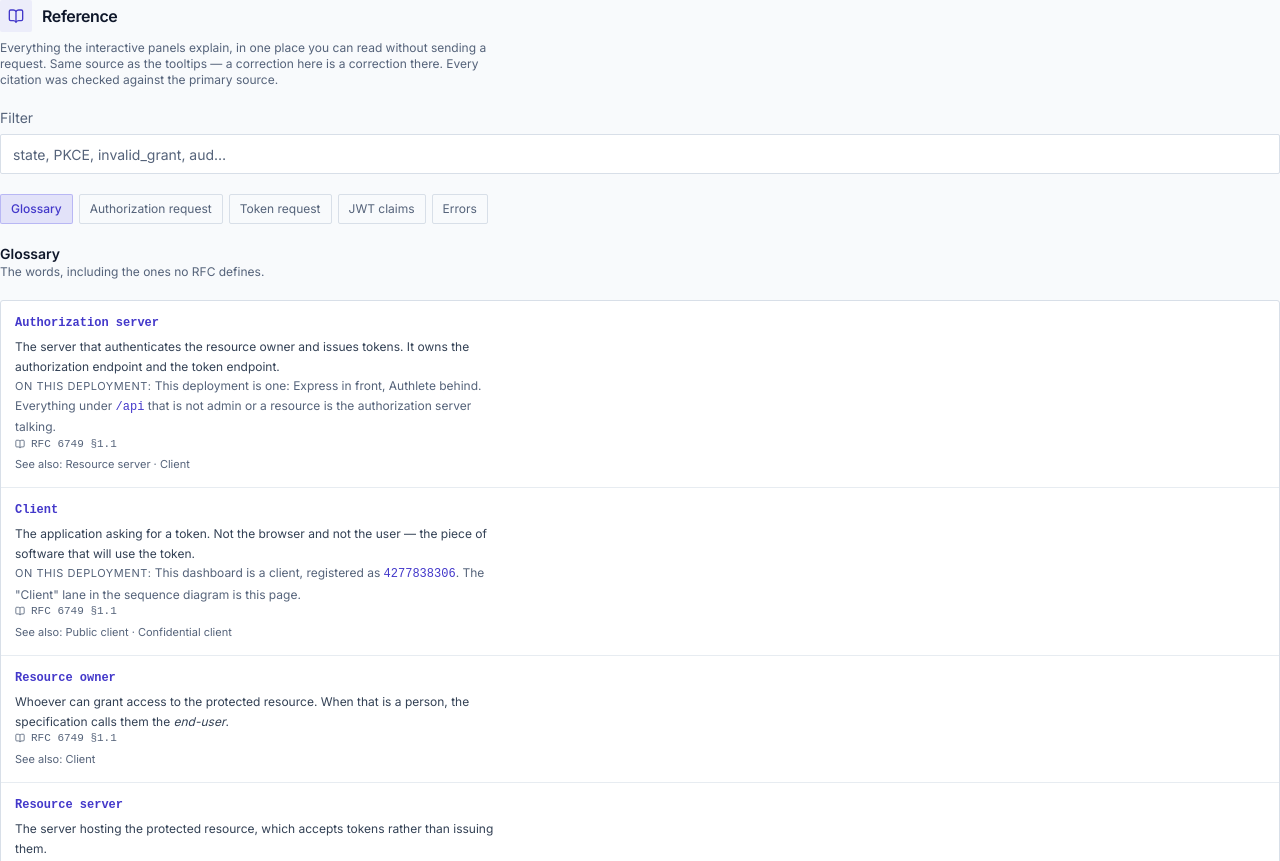
Scenario: ReferencePage › carries the attacker model into the reading surface too
Step 1. Click the button "Authorization request" → point(151, 209), box [79,194,223,224]
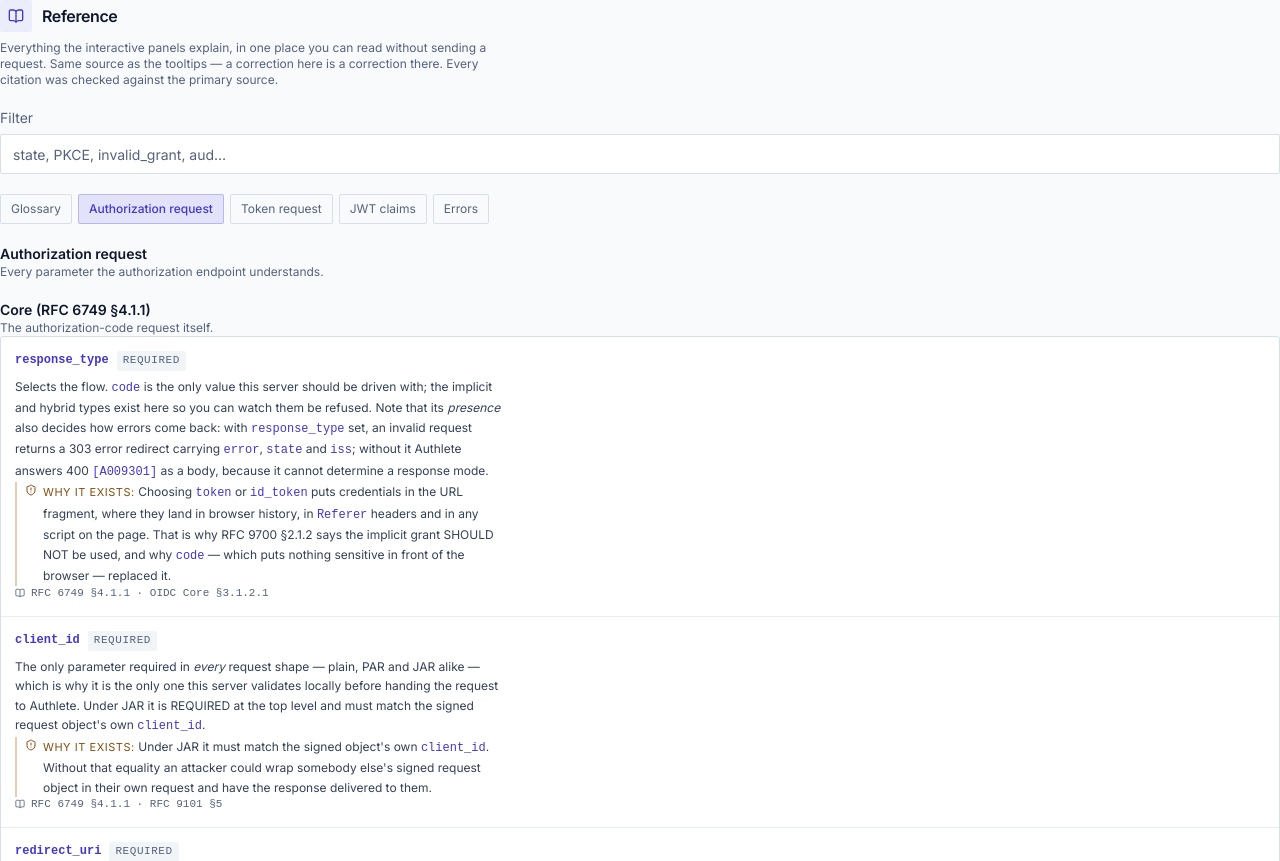
Result: the text "Why it exists:" below "[A009301]" is shown at [43,485,131,499]
